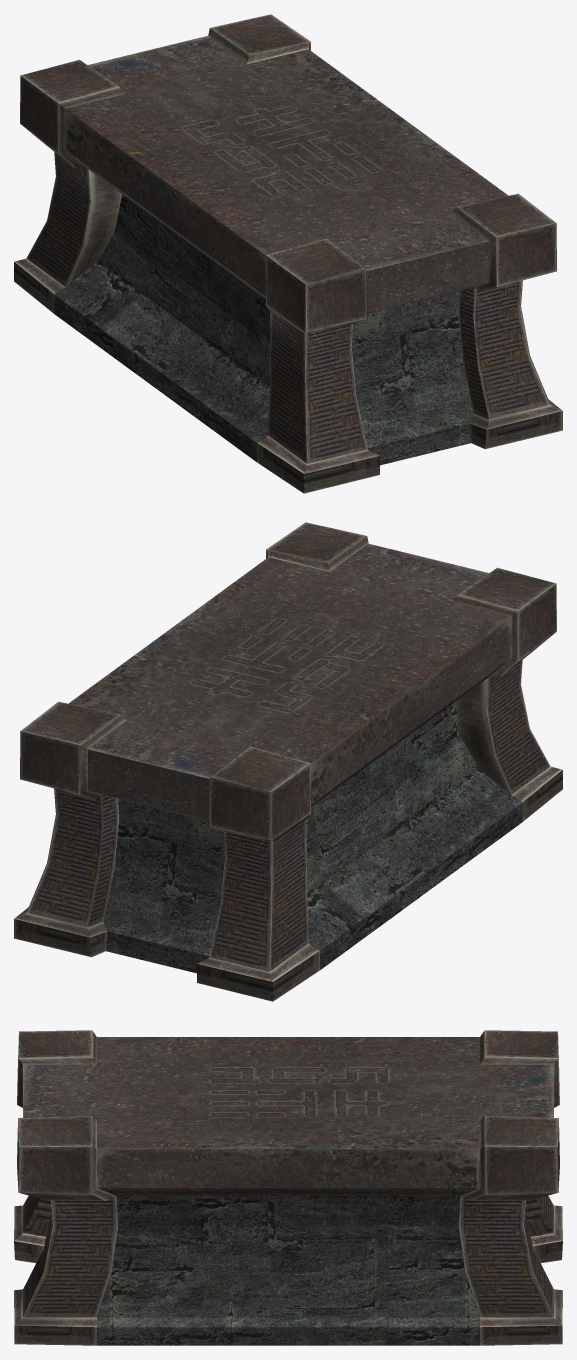
Rendered from altair.dae.
The picture shows the model from 3 angles, top to bottom: view 1: azimuth 30°, elevation 25°; view 2: azimuth 150°, elevation 25°; view 3: azimuth 270°, elevation 25°; orthographic projection. The views are drawn at different scales.
Visible parts, largest first — view 1: Default_Layer; view 2: Default_Layer; view 3: Default_Layer.
Boxes of the visible parts, x1,y1,x2,y2 form: Default_Layer: (14,14,562,493); Default_Layer: (14,522,562,1001); Default_Layer: (14,1030,562,1345).
Bounding box in the file's own units: 1.64 × 1.26 × 3.1.
